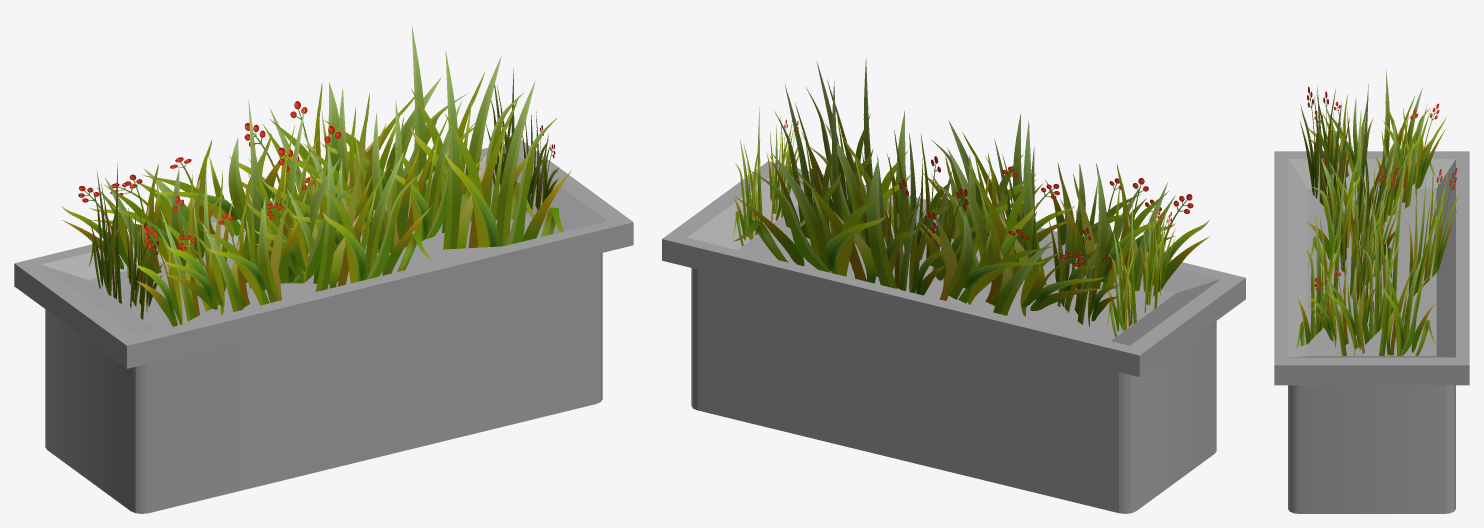
Rendered from Flower.fbx.
The picture shows the model from 3 angles, left to right: view 1: azimuth 30°, elevation 25°; view 2: azimuth 150°, elevation 25°; view 3: azimuth 270°, elevation 25°; orthographic projection. The views are drawn at different scales.
Visible parts, largest first — view 1: polySurface13; view 2: polySurface13; view 3: polySurface13.
Part boxes in pixels (x1,y1,x2,y2): polySurface13: [14, 26, 633, 513]; polySurface13: [662, 58, 1245, 513]; polySurface13: [1274, 70, 1469, 513].
Size of the model in its own units: 11.67 by 7.96 by 4.5.
